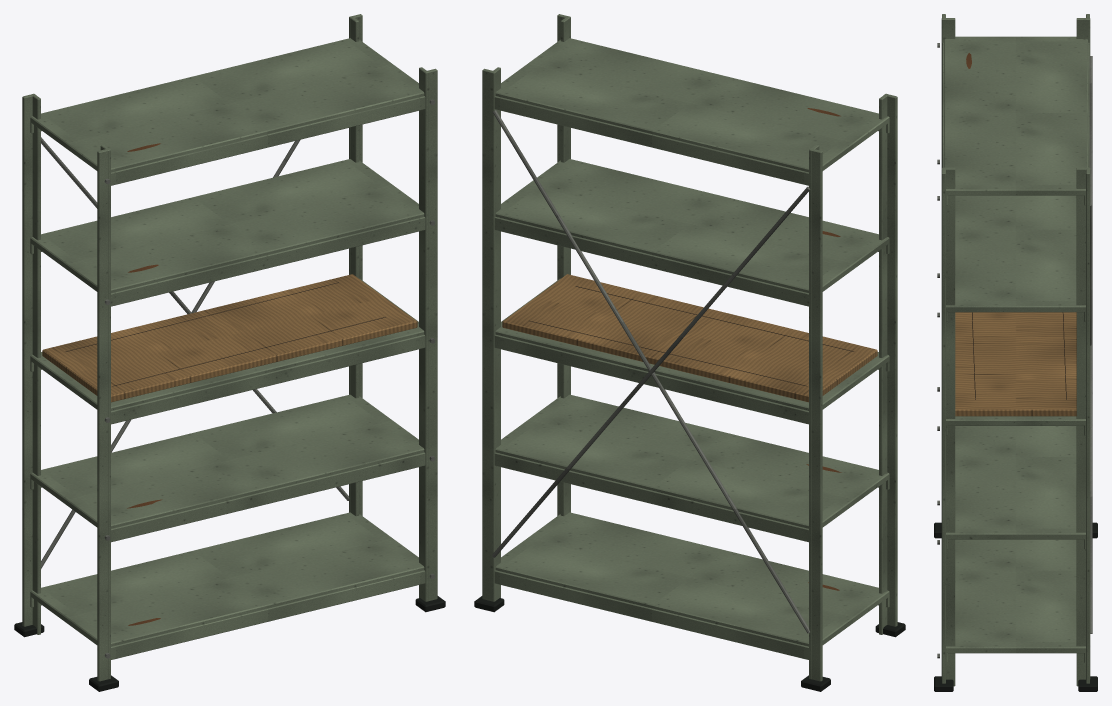
File: shelving_steel_repaired.glb
The picture shows the model from 3 angles, left to right: view 1: azimuth 30°, elevation 25°; view 2: azimuth 150°, elevation 25°; view 3: azimuth 270°, elevation 25°; orthographic projection. The views are drawn at different scales.
Visible parts, largest first — view 1: F04_shelving_steel_repaired; view 2: F04_shelving_steel_repaired; view 3: F04_shelving_steel_repaired.
Boxes of the visible parts, <box> form: F04_shelving_steel_repaired: <box>14,14,445,691</box>; F04_shelving_steel_repaired: <box>474,14,905,691</box>; F04_shelving_steel_repaired: <box>934,14,1097,691</box>.
Bounding box in the file's own units: 1.24 × 1.82 × 0.523.
6 materials, 5 textured.
